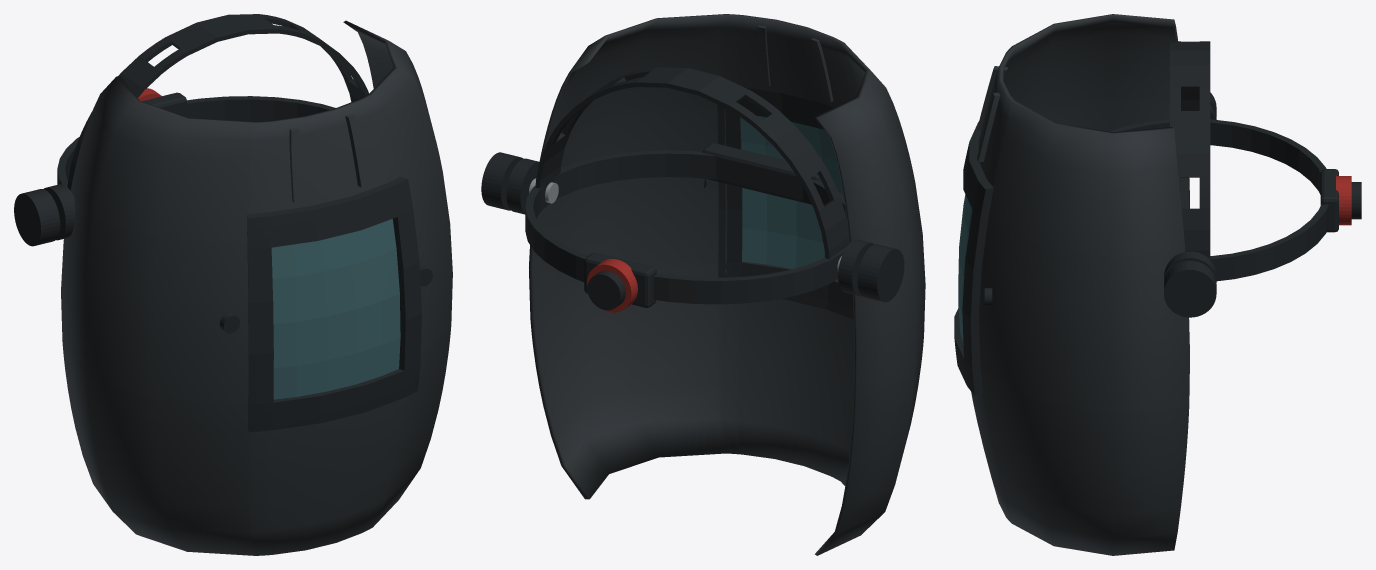
The model's file is full.fbx.
The picture shows the model from 3 angles, left to right: view 1: azimuth 30°, elevation 25°; view 2: azimuth 150°, elevation 25°; view 3: azimuth 270°, elevation 25°; orthographic projection. The views are drawn at different scales.
Visible parts, largest first — view 1: Deep curved open back face shell, Opaque inset viewing panel, Thick window surround, Perforated curved crown band, Oval forehead and rear band, Outer tightening knob -1, Side pivot disk -1, Raised forehead ridge 1, Raised forehead ridge -1, Rear headgear support pad; view 2: Deep curved open back face shell, Oval forehead and rear band, Perforated curved crown band, Opaque inset viewing panel, Thick window surround, Front dark forehead pad, Outer tightening knob -1, Outer tightening knob 1, Rear headgear support pad, Rear adjustment knob, Side pivot disk 1, Side pivot disk -1 (+3 smaller); view 3: Deep curved open back face shell, Perforated curved crown band, Oval forehead and rear band, Thick window surround, Outer tightening knob 1, Opaque inset viewing panel, Rear headgear support pad, Rear red adjuster rim, Raised forehead ridge 1, Side pivot disk 1.
Boxes of the visible parts, x1,y1,x2,y2 form: Deep curved open back face shell: (61,20,452,555); Opaque inset viewing panel: (271,219,400,399); Thick window surround: (247,177,421,431); Perforated curved crown band: (67,14,369,190); Oval forehead and rear band: (57,96,335,186); Outer tightening knob -1: (14,189,60,246); Side pivot disk -1: (44,184,75,240); Raised forehead ridge 1: (345,113,368,187); Raised forehead ridge -1: (289,127,303,203); Rear headgear support pad: (141,92,186,116); Deep curved open back face shell: (529,14,925,555); Oval forehead and rear band: (525,150,846,304); Perforated curved crown band: (535,67,849,259); Opaque inset viewing panel: (740,116,843,280); Thick window surround: (717,88,853,319); Front dark forehead pad: (702,143,821,203); Outer tightening knob -1: (857,244,904,302); Outer tightening knob 1: (481,152,523,210); Rear headgear support pad: (584,253,656,307); Rear adjustment knob: (587,270,625,310); Side pivot disk 1: (506,158,539,214); Side pivot disk -1: (838,239,874,296); Deep curved open back face shell: (971,14,1189,555); Perforated curved crown band: (1170,41,1210,258); Oval forehead and rear band: (1108,119,1328,281); Thick window surround: (954,121,993,395); Outer tightening knob 1: (1164,260,1216,317); Opaque inset viewing panel: (958,194,972,344); Rear headgear support pad: (1320,169,1338,232); Rear red adjuster rim: (1336,176,1351,225); Raised forehead ridge 1: (977,92,1000,162); Side pivot disk 1: (1164,251,1216,282).
Size of the model in its own units: 28.4 by 31.14 by 26.25.
